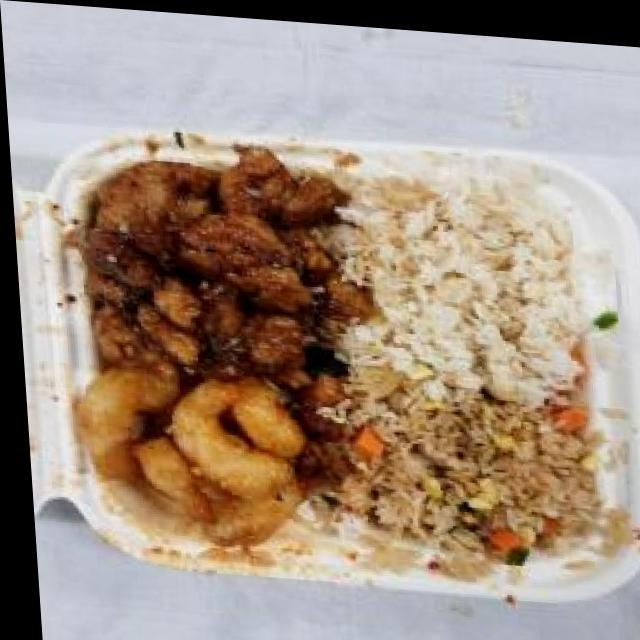Fried Rice: (318, 370, 601, 569)
Honey Walnut Shrimp: (62, 361, 326, 550)
The Original Orange Chicken: (60, 128, 363, 405)
White Steamed Rice: (327, 152, 589, 391)
